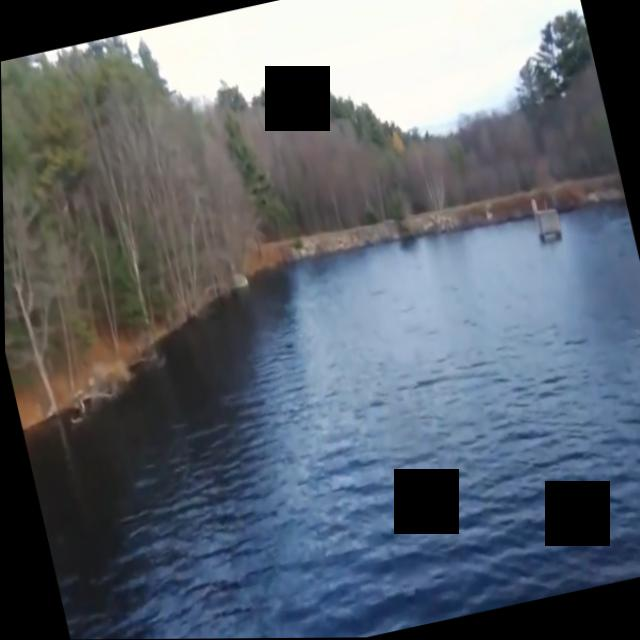Building: (526, 192, 565, 247)
Tree: (51, 19, 256, 331), (1, 49, 126, 415), (262, 70, 421, 262), (505, 5, 626, 220), (209, 69, 291, 268), (400, 115, 462, 228)
